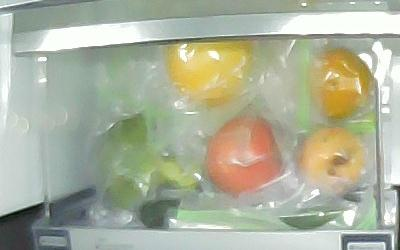apple_vinyl: (205, 116, 283, 196)
broccoli_vinyl: (94, 114, 200, 207)
cucumber_vinyl: (139, 200, 364, 229)
grapefruit_vinyl: (165, 40, 254, 106)
peach_vinyl: (297, 127, 365, 186)
persimmon_vinyl: (307, 48, 371, 119)
